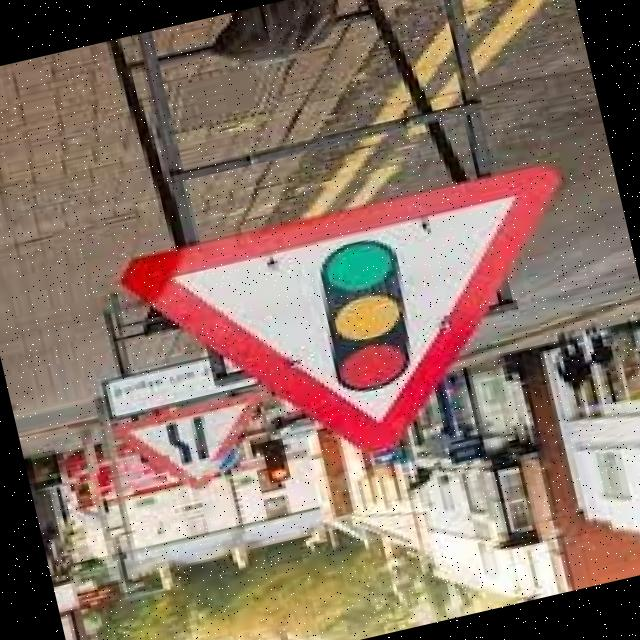light_traffic: (118, 169, 565, 456)
